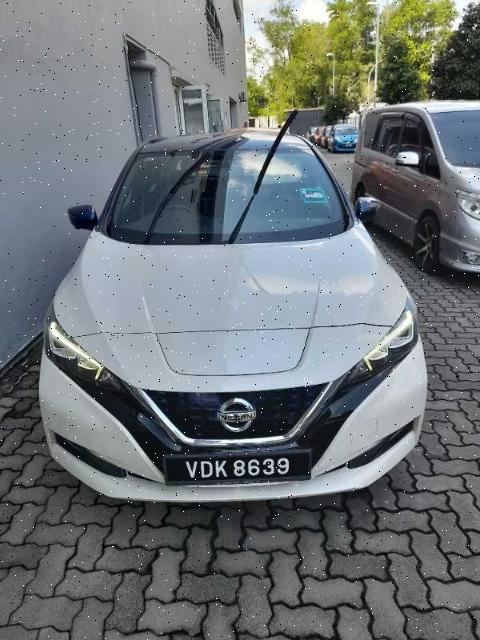License_Plate: (162, 449, 314, 488)
car: (39, 124, 429, 504)
